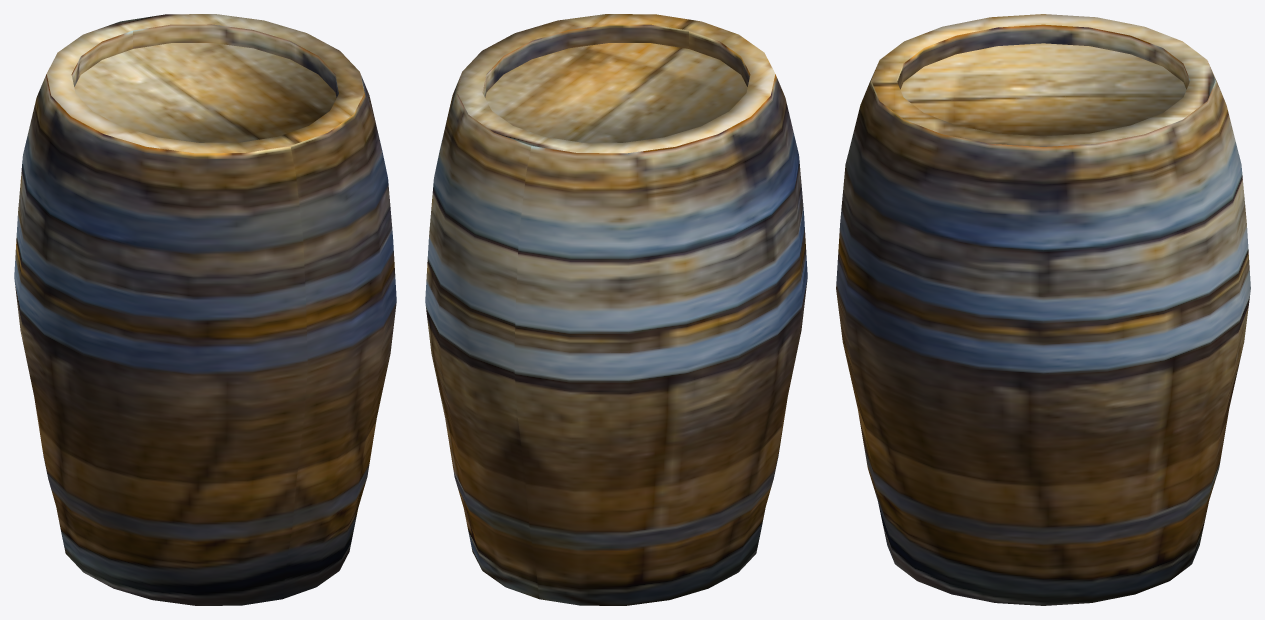
File: barrell.fbx
The picture shows the model from 3 angles, left to right: view 1: azimuth 30°, elevation 25°; view 2: azimuth 150°, elevation 25°; view 3: azimuth 270°, elevation 25°; orthographic projection.
Parts seen in each view (by area): view 1: U3DMesh; view 2: U3DMesh; view 3: U3DMesh.
Part boxes in pixels (x1,y1,x2,y2): U3DMesh: (14,14,396,605); U3DMesh: (425,14,807,605); U3DMesh: (836,14,1250,605).
Bounding box in the file's own units: 1.2 × 1.62 × 1.31.
Materials: 1 (1 with a texture image).
